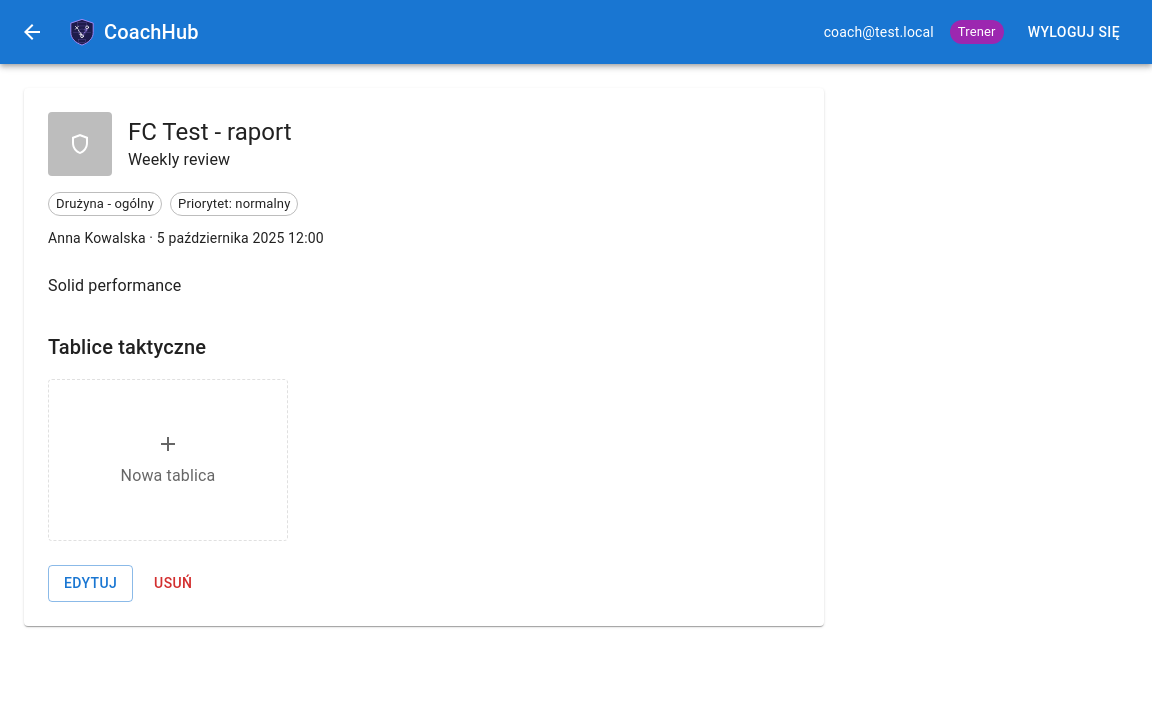
Test: deleting the report › asks for confirmation, deletes the report and returns to the list
Expected: the text "Weekly review" is shown, [128, 150, 230, 169]
Click the button "Usuń" at {"x": 173, "y": 583}, box [141, 565, 205, 602]
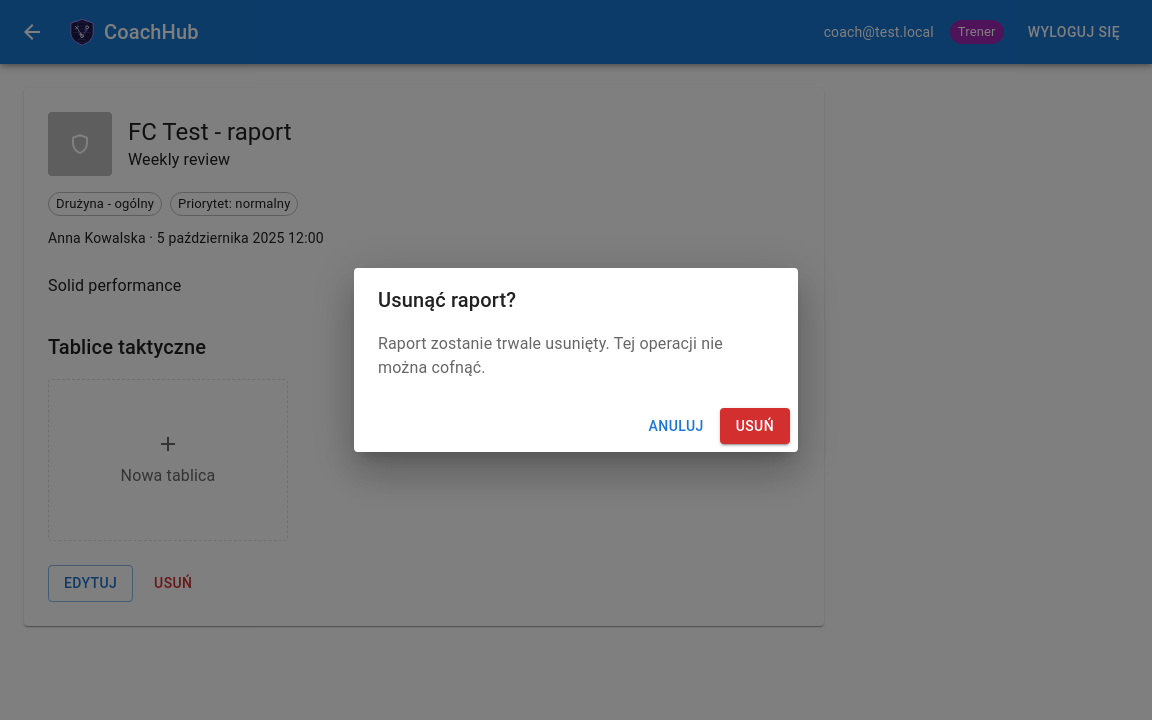
Result: the heading "Usunąć raport?" is shown at [378, 288, 516, 312]
Result: the text "Raport zostanie trwale usunięty. Tej operacji nie można cofnąć." is shown at [378, 332, 774, 380]
Click the button "Usuń" at {"x": 755, "y": 426}, box [720, 408, 790, 444]
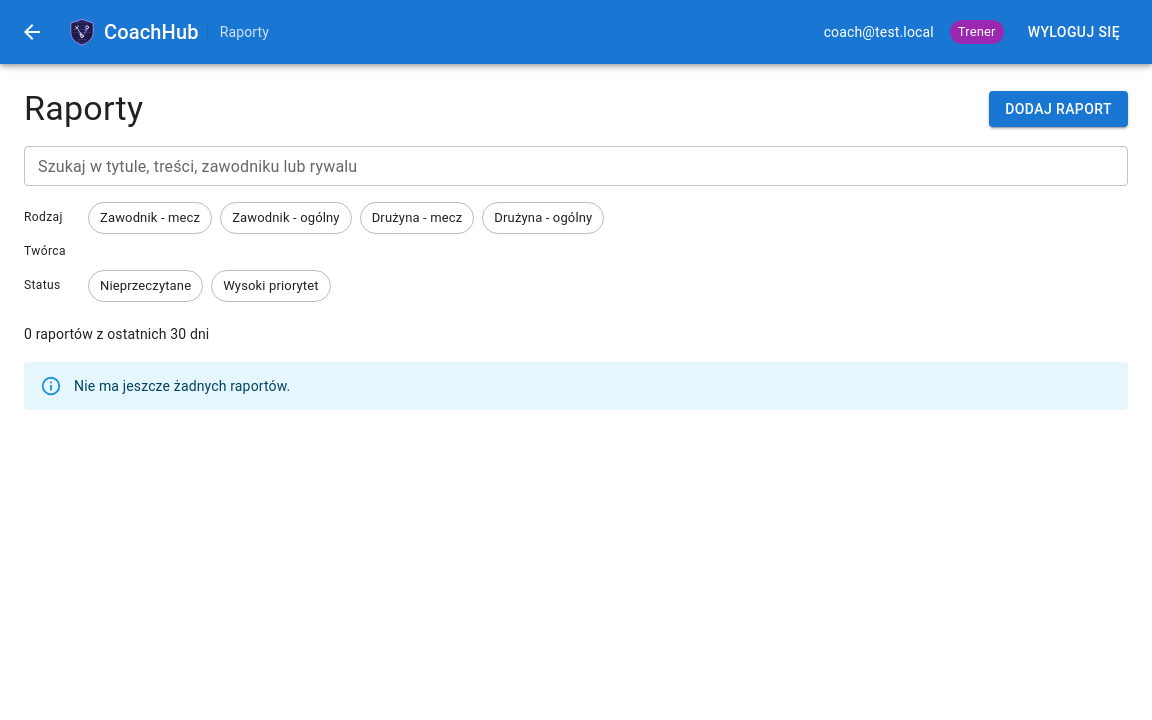
Result: the heading "Raporty" is shown at [24, 88, 143, 130]
